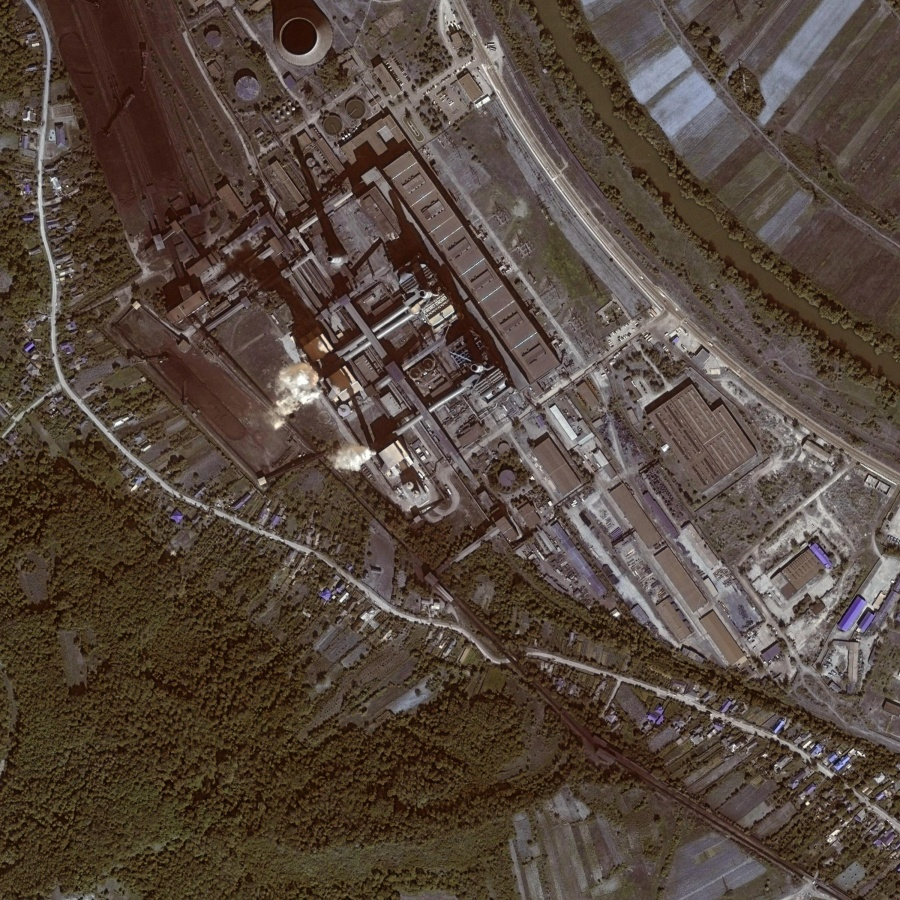PowerPlant: (159, 271, 374, 500)
